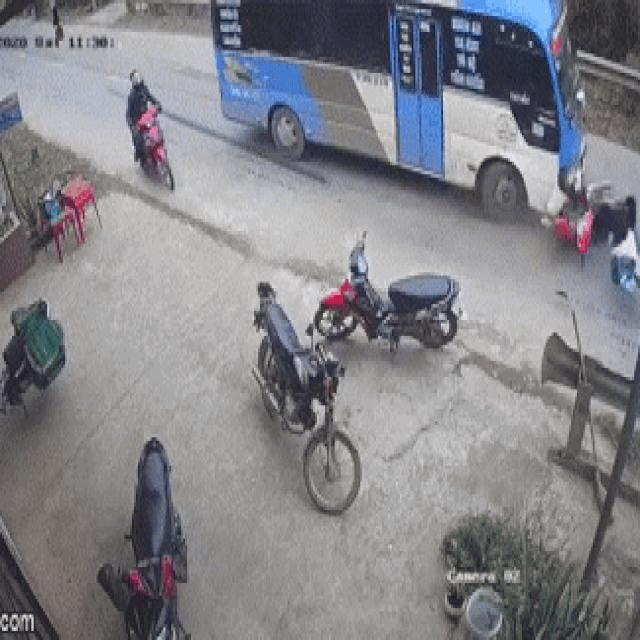multiple_accident: (209, 0, 640, 300)
